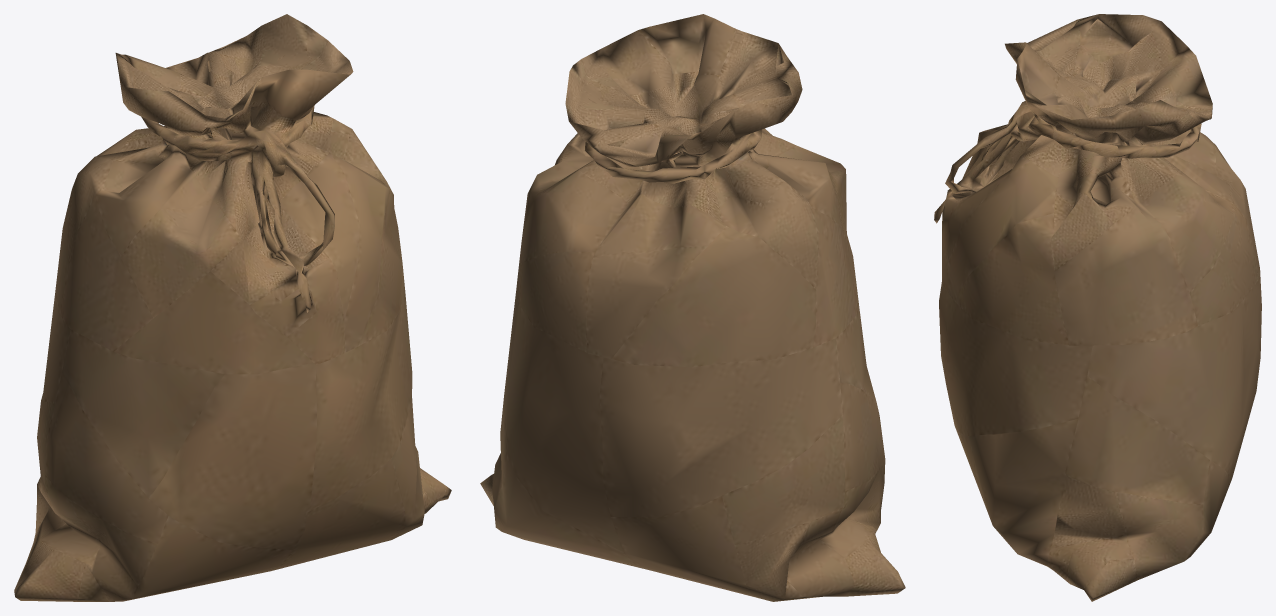
File: croak-bag.glb
3 views of the same model, side by side, from view 1: azimuth 30°, elevation 25°; view 2: azimuth 150°, elevation 25°; view 3: azimuth 270°, elevation 25° (orthographic). The views are drawn at different scales.
Bounding box in the file's own units: 1.71 × 1.9 × 1.22.
1 material, 1 textured.
